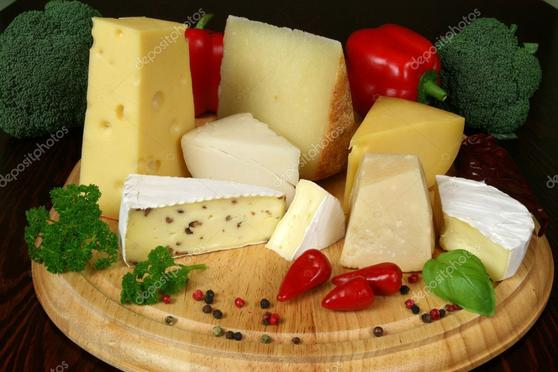cheese: (340, 149, 434, 274), (172, 112, 302, 183)
